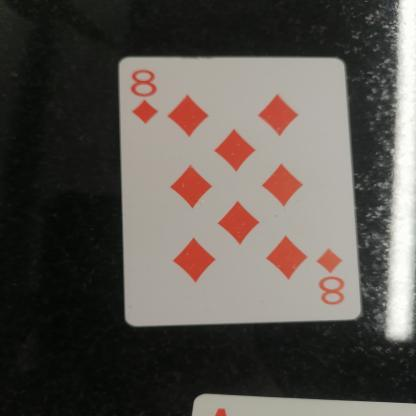8D: (126, 64, 176, 128), (314, 237, 354, 312)
